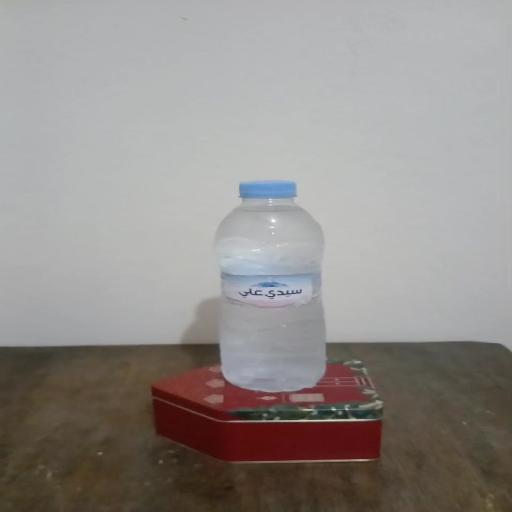bouteille conformite: (211, 162, 358, 394)
